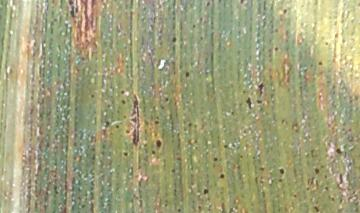tarspot: (128, 90, 140, 148), (256, 80, 265, 98), (67, 1, 75, 20), (244, 96, 253, 110), (219, 200, 227, 213), (278, 166, 286, 177), (155, 138, 163, 149), (316, 59, 325, 68), (335, 146, 343, 156), (87, 91, 97, 99), (255, 98, 264, 106), (338, 172, 343, 185), (312, 205, 320, 213), (204, 1, 212, 9), (170, 166, 178, 174), (291, 192, 299, 200), (143, 118, 151, 126), (313, 166, 320, 175), (258, 165, 267, 172), (74, 4, 80, 14), (218, 172, 226, 179), (202, 187, 209, 195), (122, 151, 130, 158), (273, 45, 280, 53), (234, 163, 242, 170), (323, 184, 330, 192), (222, 142, 228, 151), (212, 156, 219, 163), (159, 104, 166, 111), (280, 118, 287, 125), (123, 129, 131, 135), (120, 98, 126, 106), (118, 89, 126, 95), (228, 205, 234, 213), (237, 1, 246, 6), (310, 176, 314, 187), (184, 71, 191, 77), (171, 36, 177, 43), (281, 8, 288, 14), (150, 149, 157, 155), (153, 119, 159, 126), (175, 207, 182, 213), (199, 35, 205, 42), (164, 96, 169, 104), (315, 178, 319, 188), (277, 177, 283, 183), (191, 23, 197, 29), (238, 153, 244, 159), (196, 205, 203, 210), (322, 40, 327, 47), (115, 124, 120, 130), (187, 122, 193, 127), (330, 196, 335, 202), (230, 110, 234, 116)
